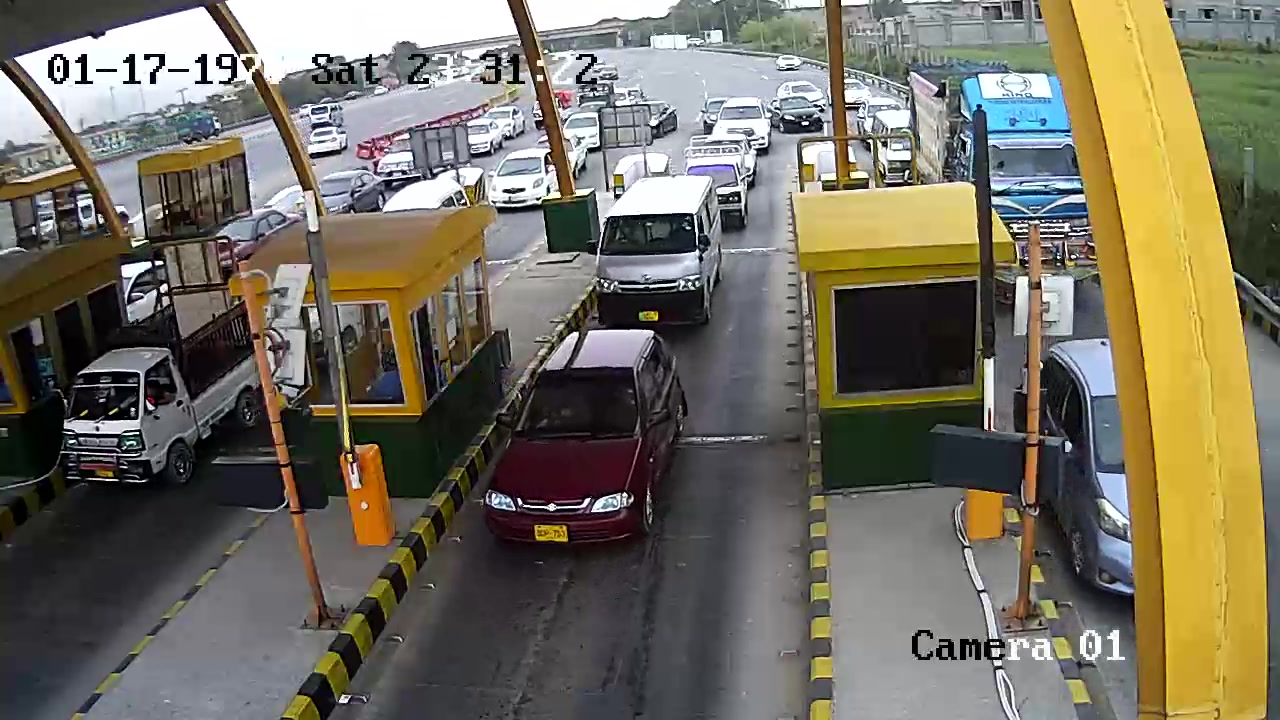F1: (483, 322, 690, 563)
F2: (571, 170, 729, 332)
